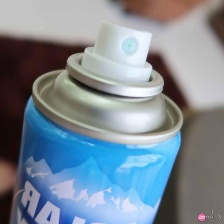aerosol_cans: (2, 15, 191, 224)
